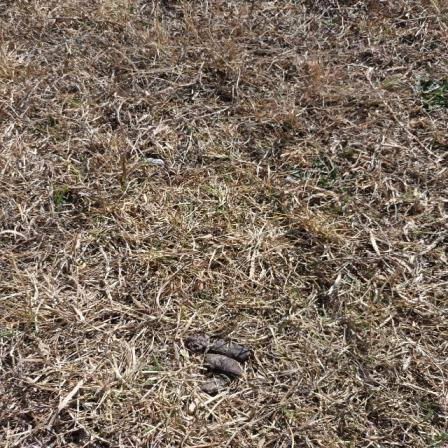dog-poop: (186, 326, 272, 407)
